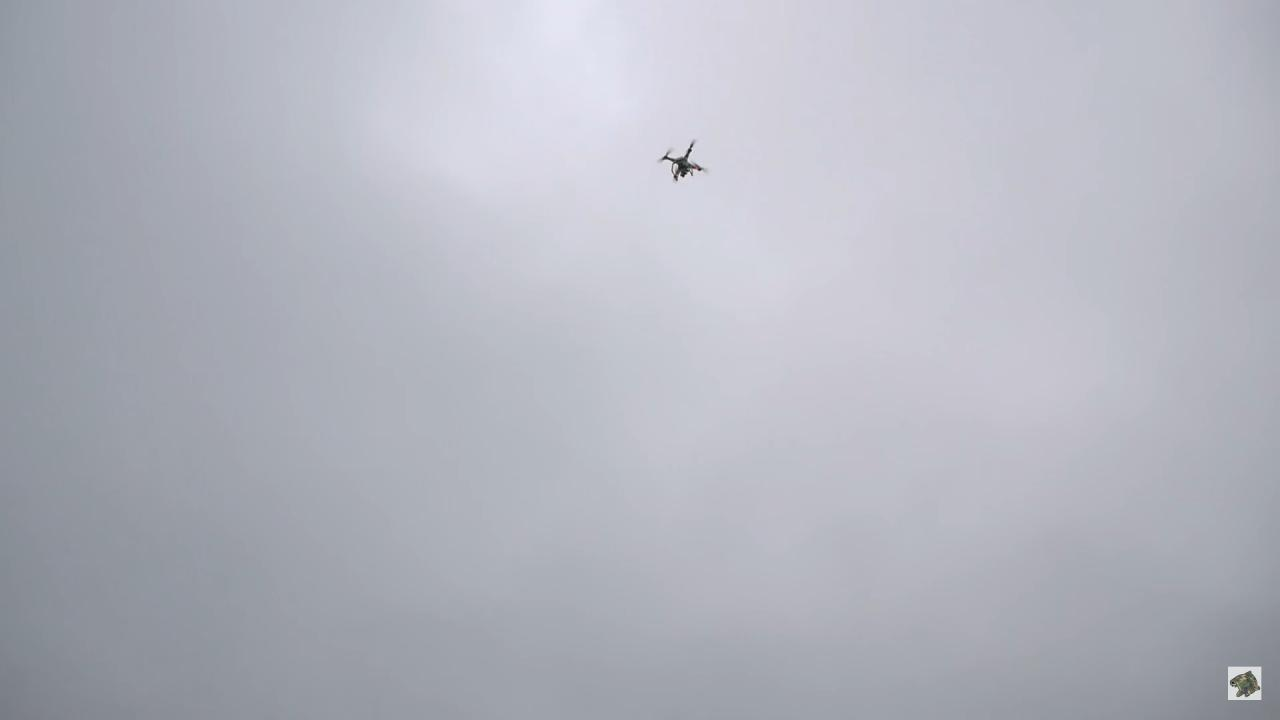Drone: (651, 130, 712, 193)
